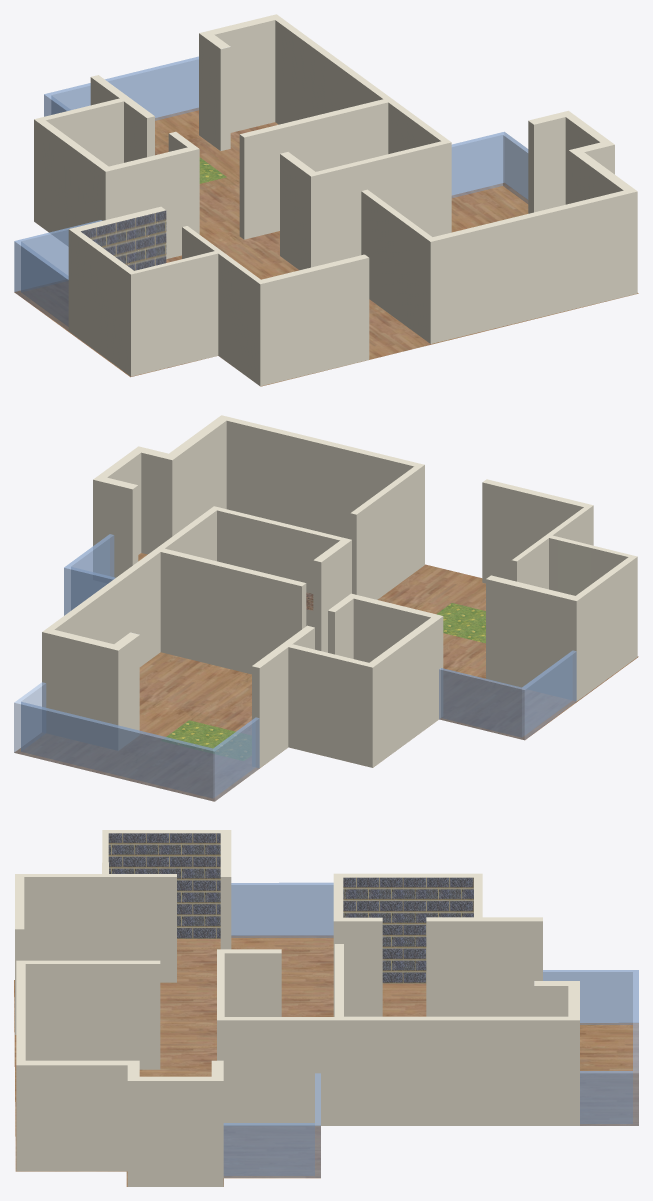
File: 2bhk layout.gltf
The picture shows the model from 3 angles, top to bottom: view 1: azimuth 30°, elevation 25°; view 2: azimuth 150°, elevation 25°; view 3: azimuth 270°, elevation 25°; orthographic projection. The views are drawn at different scales.
Visible parts, largest first — view 1: SketchUp; view 2: SketchUp; view 3: SketchUp.
Boxes of the visible parts, box(x1,y1,x2,y2) form: SketchUp: box(14, 14, 638, 386); SketchUp: box(14, 415, 638, 801); SketchUp: box(14, 830, 638, 1186).
Size of the model in its own units: 10.19 by 2 by 10.7.
Materials: 7 (4 with a texture image).
